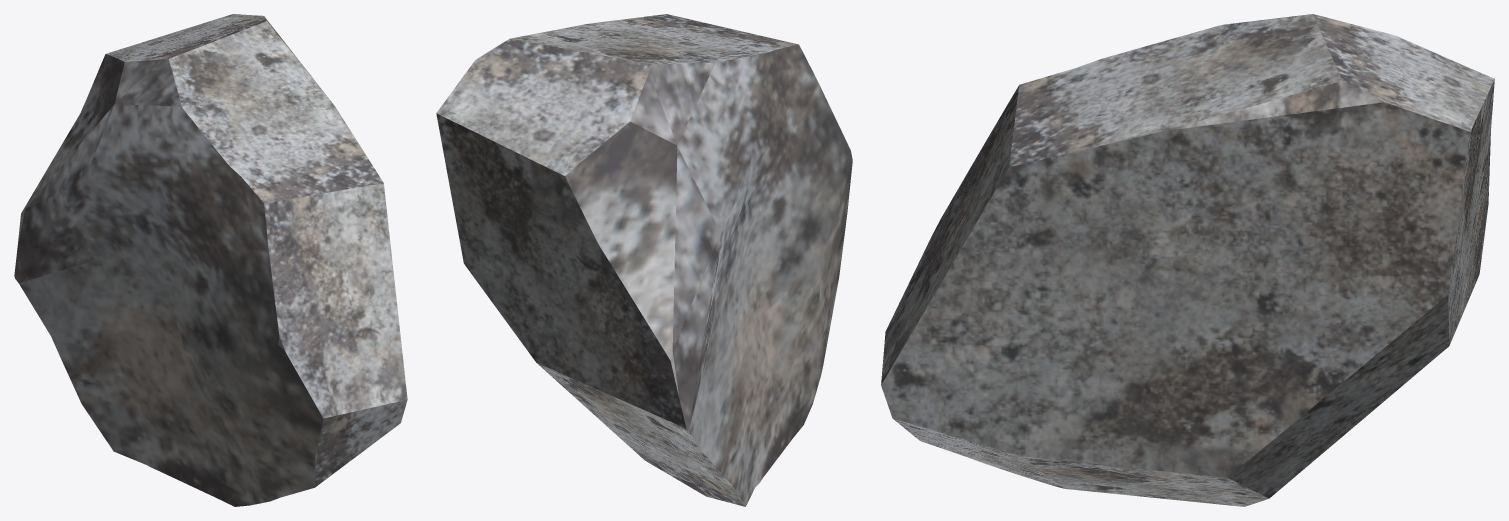
Rendered from Asteroid_Large_001_02_009_03_047.fbx.
The picture shows the model from 3 angles, left to right: view 1: azimuth 30°, elevation 25°; view 2: azimuth 150°, elevation 25°; view 3: azimuth 270°, elevation 25°; orthographic projection. The views are drawn at different scales.
Parts seen in each view (by area): view 1: Asteroid_Large_001_02_009_03_047; view 2: Asteroid_Large_001_02_009_03_047; view 3: Asteroid_Large_001_02_009_03_047.
Boxes of the visible parts, x1,y1,x2,y2 form: Asteroid_Large_001_02_009_03_047: (14, 14, 407, 506); Asteroid_Large_001_02_009_03_047: (436, 14, 852, 506); Asteroid_Large_001_02_009_03_047: (881, 14, 1494, 506).
Bounding box in the file's own units: 6.95 × 11.78 × 12.85.
